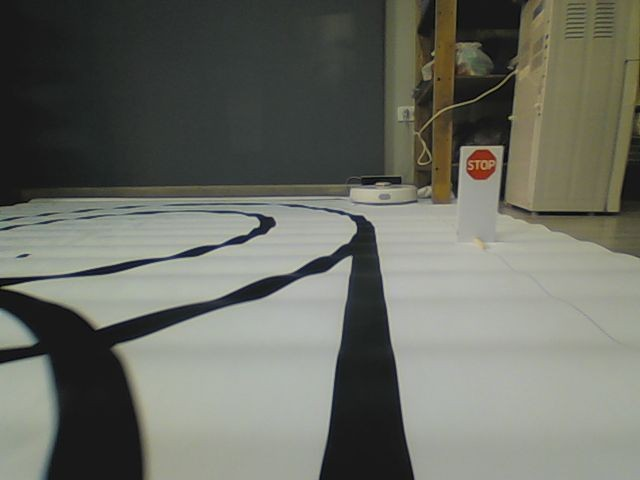Stop: (464, 146, 496, 181)
